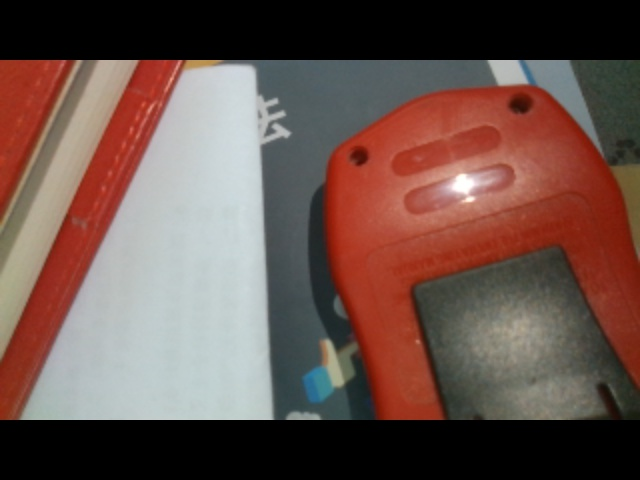Screw holes: (507, 92, 535, 115), (347, 146, 371, 166)
